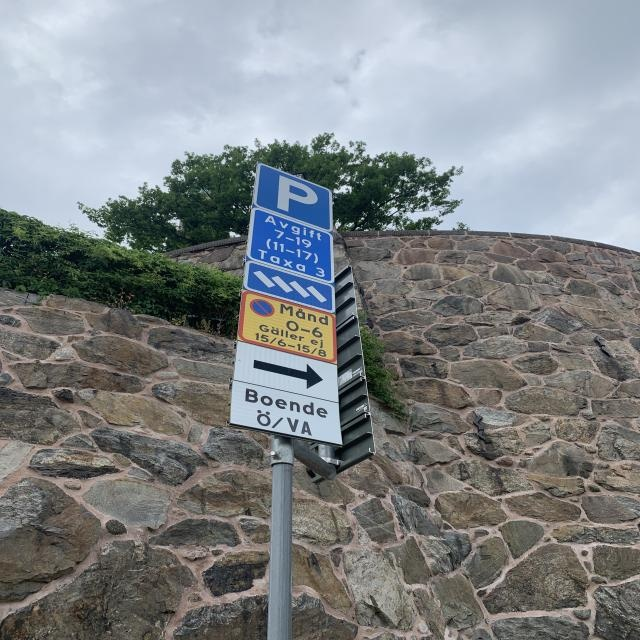P-skylt: (252, 161, 340, 233)
